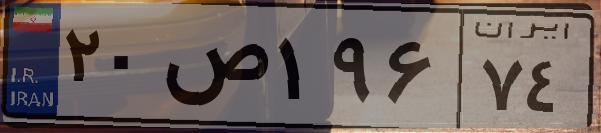0: (110, 28, 158, 98)
1: (270, 28, 330, 110)
2: (57, 26, 110, 100)
4: (525, 38, 570, 115)
6: (385, 28, 445, 110)
7: (475, 38, 525, 113)
9: (330, 28, 385, 110)
ص: (158, 20, 270, 120)
